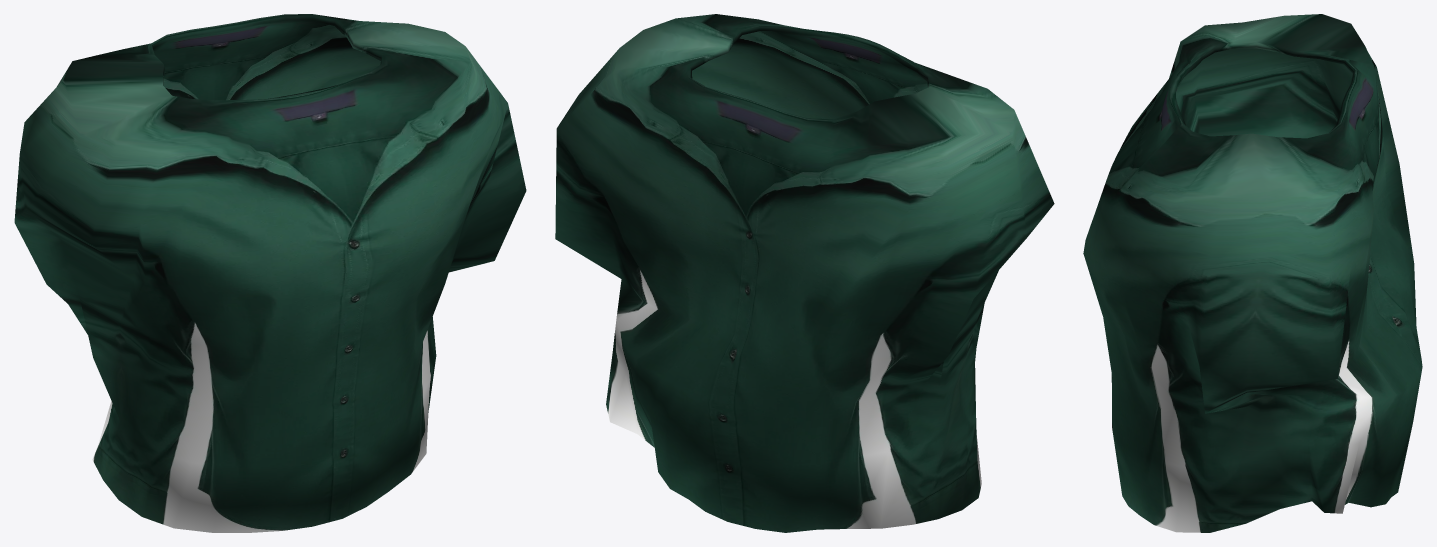
Rendered from 15dda046-9fb4-40be-b930-8bbfd54dd141.glb.
The picture shows the model from 3 angles, left to right: view 1: azimuth 30°, elevation 25°; view 2: azimuth 150°, elevation 25°; view 3: azimuth 270°, elevation 25°; orthographic projection. The views are drawn at different scales.
Visible parts, largest first — view 1: garment; view 2: garment; view 3: garment.
Boxes of the visible parts, x1,y1,x2,y2 form: garment: [14, 14, 526, 532]; garment: [555, 14, 1054, 532]; garment: [1083, 14, 1422, 532].
Size of the model in its own units: 0.5608 by 0.4757 by 0.3617.
1 material, 1 textured.
